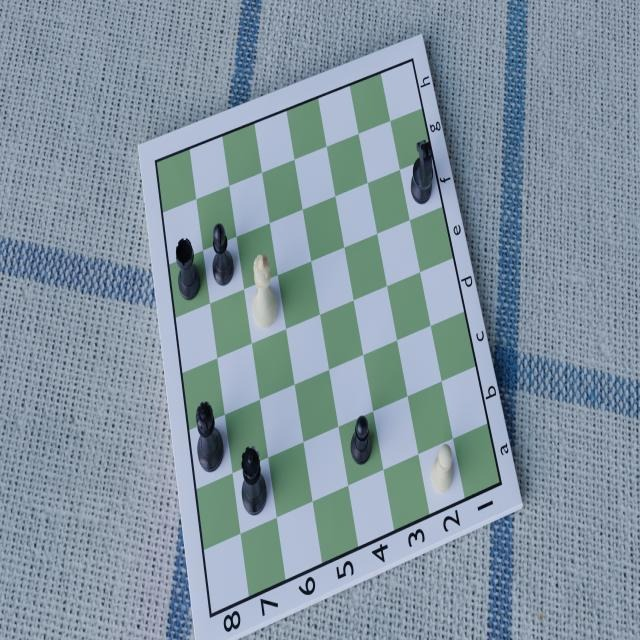black-bishop: (209, 217, 239, 286)
black-king: (195, 394, 225, 474)
black-knight: (410, 140, 435, 208)
black-pawn: (349, 412, 372, 468)
black-queen: (240, 447, 270, 517)
black-rook: (175, 234, 205, 303)
white-king: (249, 248, 279, 335)
white-pawn: (430, 438, 456, 501)
